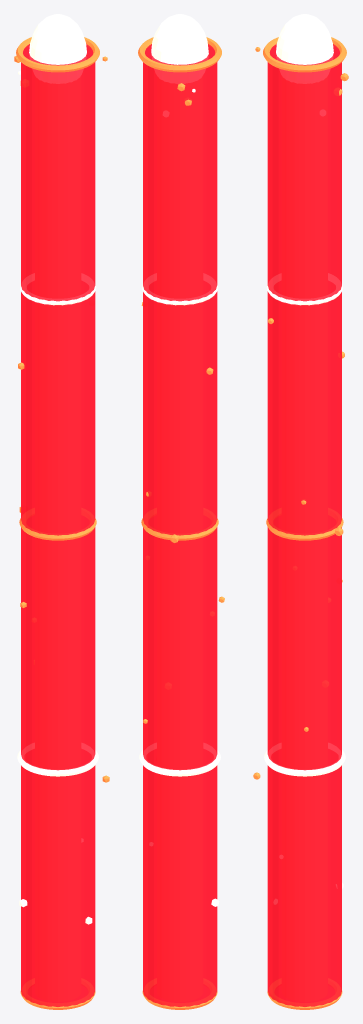
The model's file is laser_red_charged.glb.
3 views of the same model, side by side, from view 1: azimuth 90°, elevation 25°; view 2: azimuth 210°, elevation 25°; view 3: azimuth 270°, elevation 25° (orthographic).
Visible parts, largest first — view 1: laser_red_charged; view 2: laser_red_charged; view 3: laser_red_charged.
Boxes of the visible parts, x1,y1,x2,y2 form: laser_red_charged: [14, 14, 109, 1009]; laser_red_charged: [138, 14, 224, 1009]; laser_red_charged: [253, 14, 348, 1009].
Size of the model in its own units: 0.3131 by 3.96 by 0.3486.
